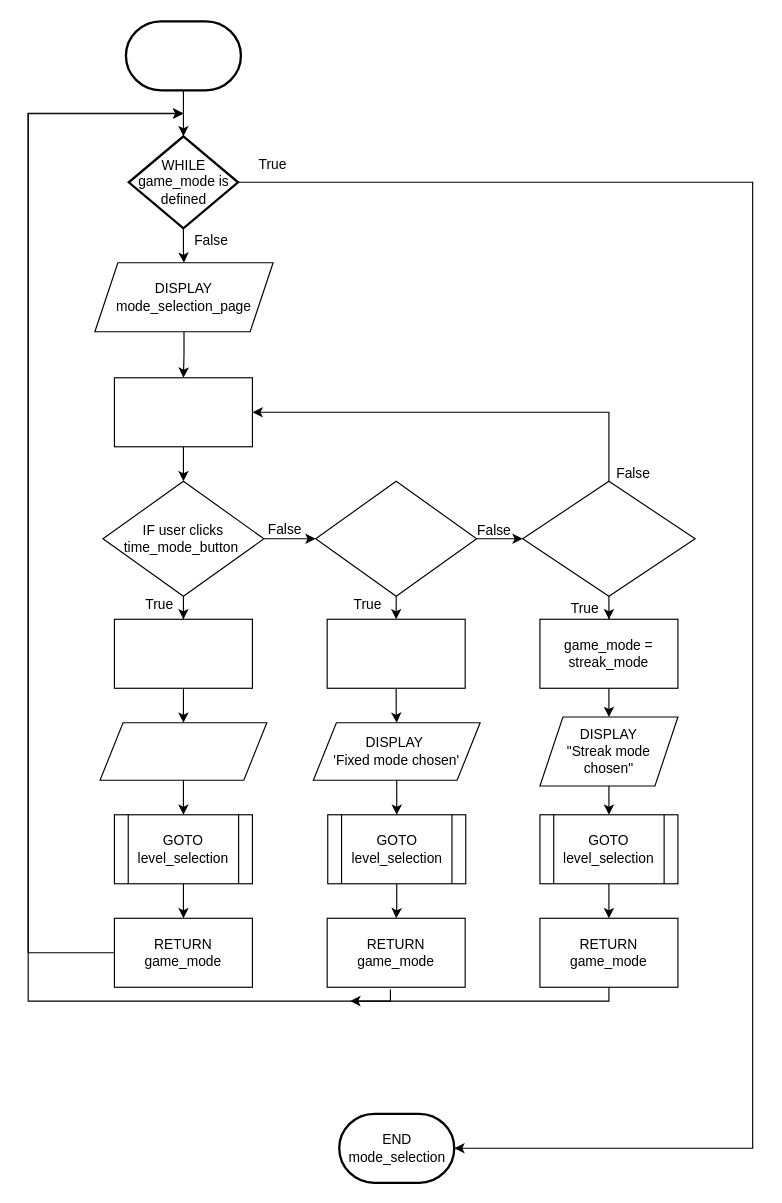
Image size: 782x1203. Some labels were removed from this diagram. Here are the shapes that lost their labels. From the top down, the centre of each, then its label:
the point at 182,55: BEGIN mode_selection
the point at 182,412: WAIT for user to click on mode buttons
the point at 396,538: ELSEIF user clicks fixed_mode_button
the point at 608,538: ELSEIF user clicks streak_mode_button
the point at 182,653: game_mode = timed_mode
the point at 395,653: game_mode = fixed_mode
the point at 183,751: DISPLAY 'Timed mode chosen'
